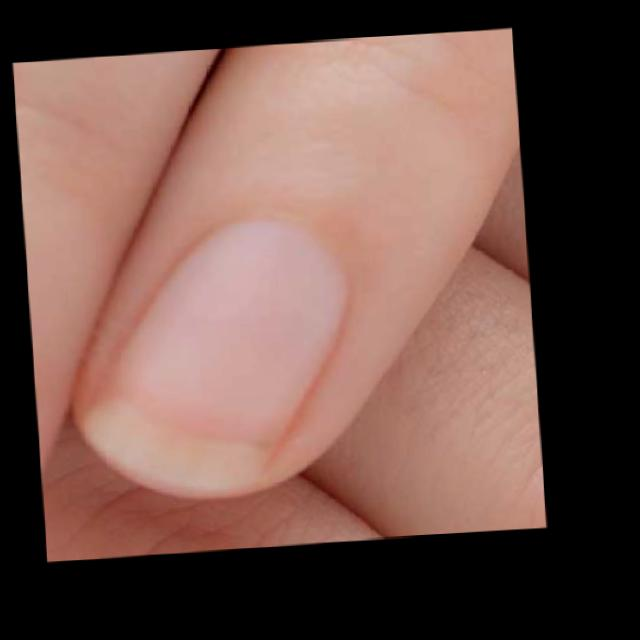Nail: (78, 219, 346, 493)
